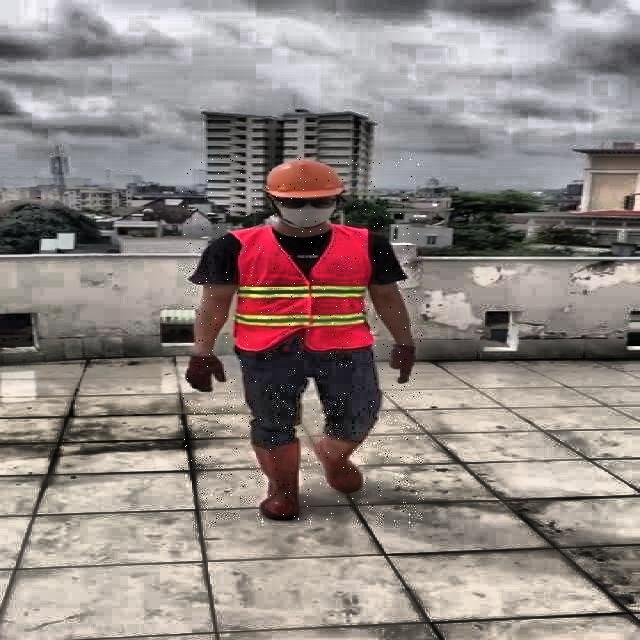safety_helmet: (259, 158, 348, 198)
safety_jacket: (231, 227, 375, 353)
